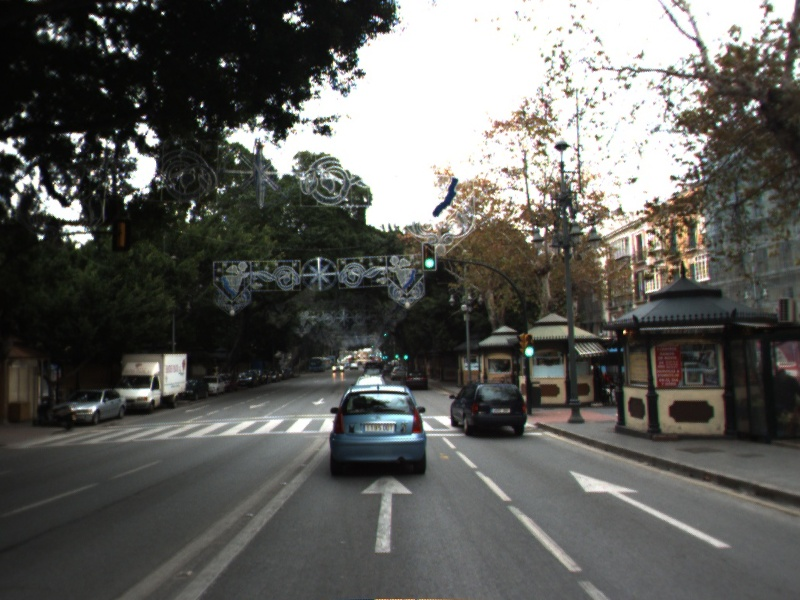STRAIGHT: (567, 469, 735, 550), (358, 472, 415, 555)
